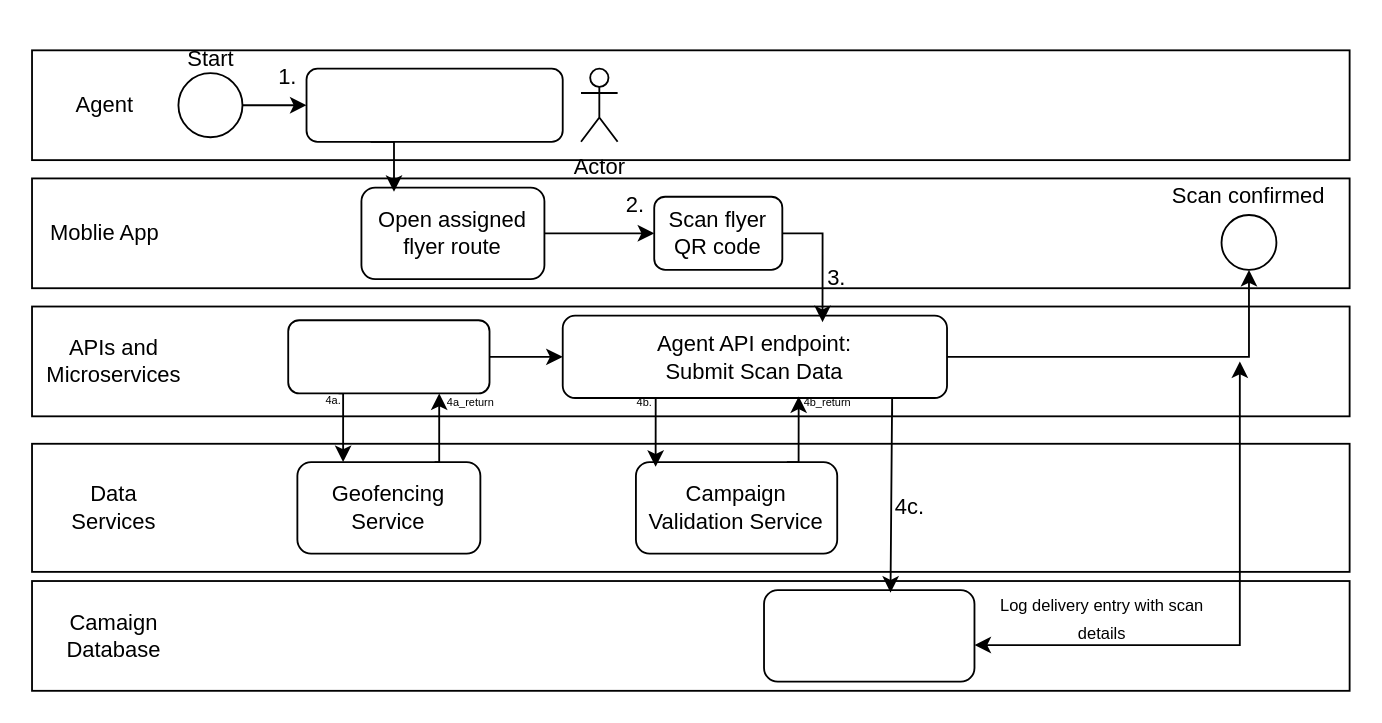
The diagram is 1382 pixels wide and 723 high, and some of its shapes have lost their labels. The shapes that lost their labels are listed below. From the top down, each one's centre as x and y in pixels, then its label:
pixel 434 104: Open assigned campaign and route
pixel 388 355: Agent API
pixel 868 635: Campaign Database
